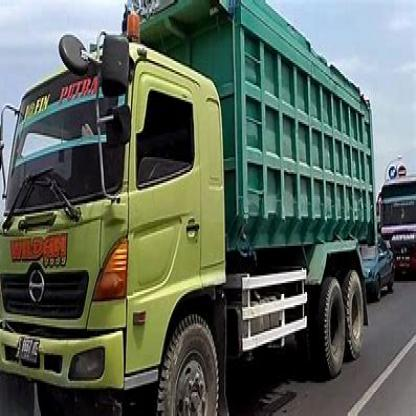dump_truck: (5, 33, 301, 407)
